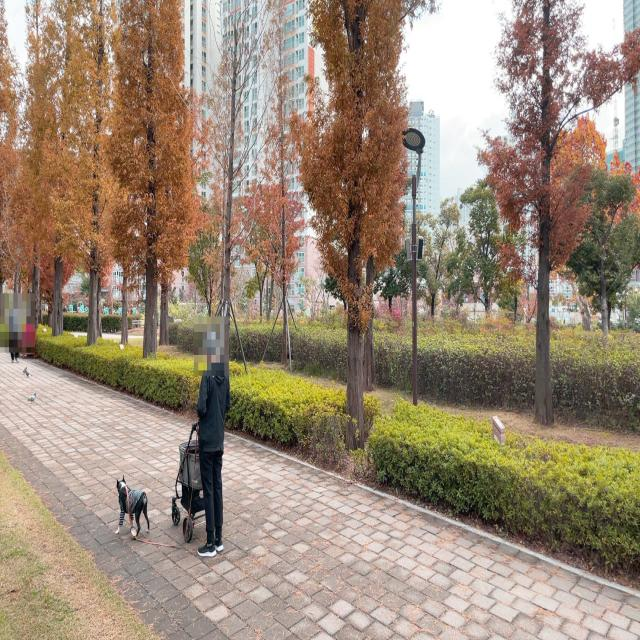Leashed_Dog: (114, 407, 221, 549)
